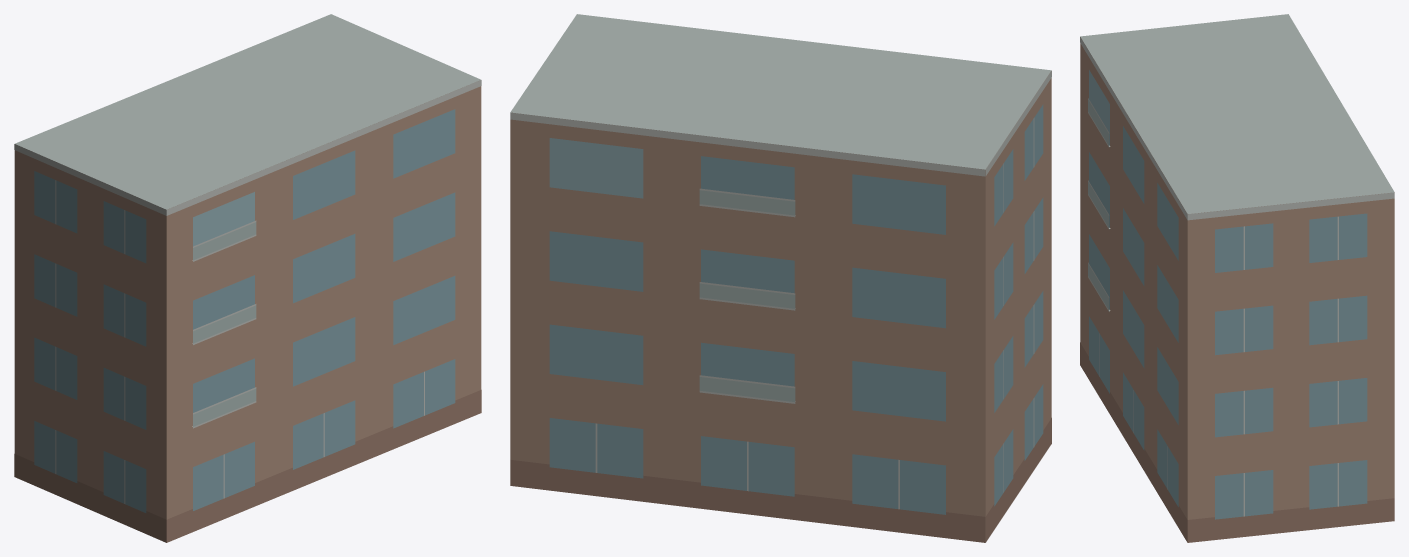
The model's file is survey-upis-32710406.glb.
3 views of the same model, side by side, from view 1: azimuth 30°, elevation 25°; view 2: azimuth 150°, elevation 25°; view 3: azimuth 270°, elevation 25° (orthographic). The views are drawn at different scales.
Parts seen in each view (by area): view 1: survey-upis-32710406.tmp; view 2: survey-upis-32710406.tmp; view 3: survey-upis-32710406.tmp.
Boxes of the visible parts, x1,y1,x2,y2 form: survey-upis-32710406.tmp: (14, 14, 481, 542); survey-upis-32710406.tmp: (510, 14, 1051, 542); survey-upis-32710406.tmp: (1080, 14, 1394, 542).
Bounding box in the file's own units: 16.99 × 13 × 11.29.
